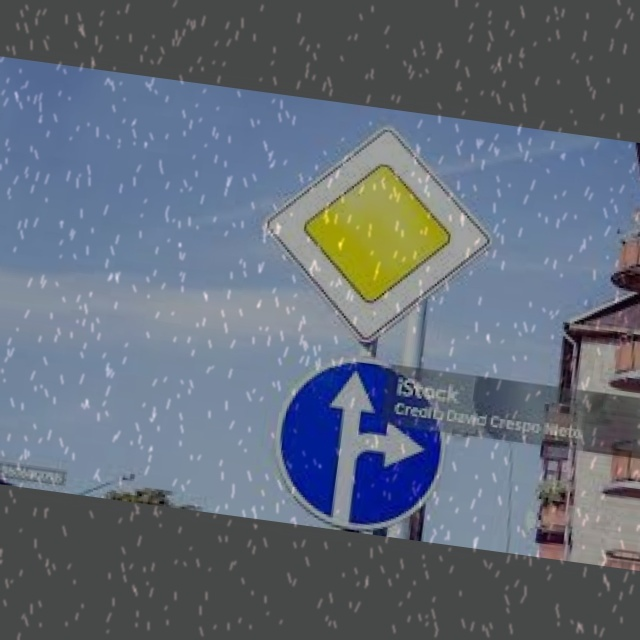Compulsory_Ahead_or_Turn_Right: (268, 350, 447, 532)
